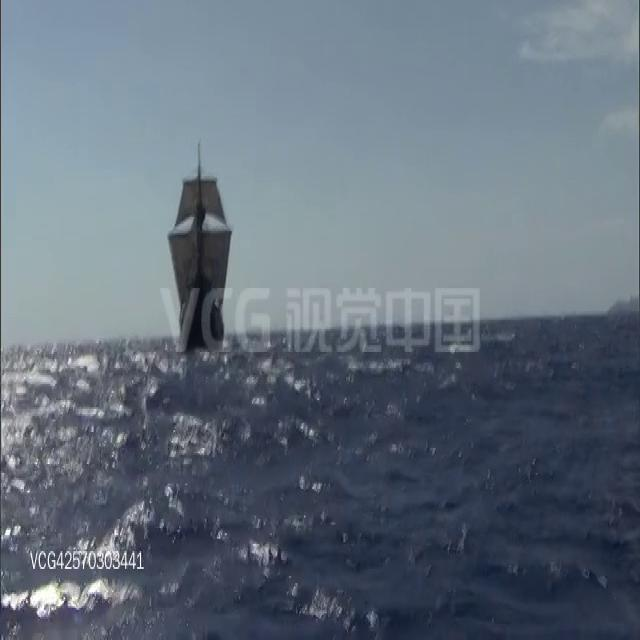sailboat: (166, 136, 234, 346)
